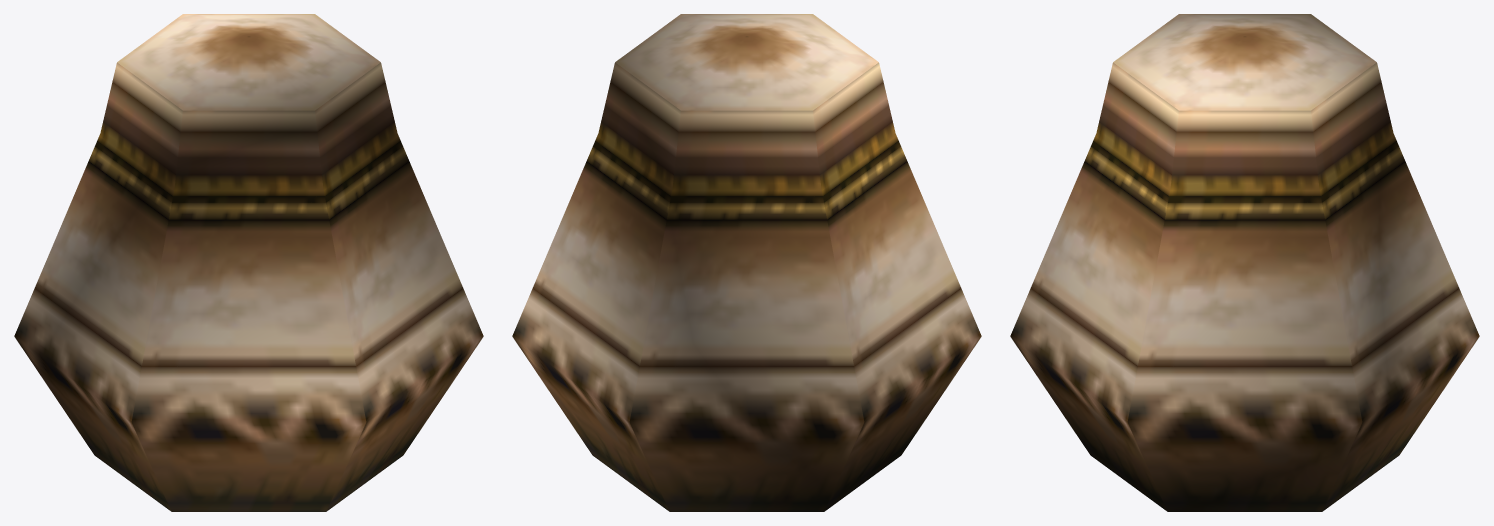
File: jar02.obj
The picture shows the model from 3 angles, left to right: view 1: azimuth 30°, elevation 25°; view 2: azimuth 150°, elevation 25°; view 3: azimuth 270°, elevation 25°; orthographic projection.
Parts seen in each view (by area): view 1: jar020; view 2: jar020; view 3: jar020.
Boxes of the visible parts, x1,y1,x2,y2 form: jar020: [14, 14, 483, 511]; jar020: [512, 14, 981, 511]; jar020: [1010, 14, 1479, 511].
Bounding box in the file's own units: 0.4398 × 0.5002 × 0.5079.
Materials: 1 (1 with a texture image).
